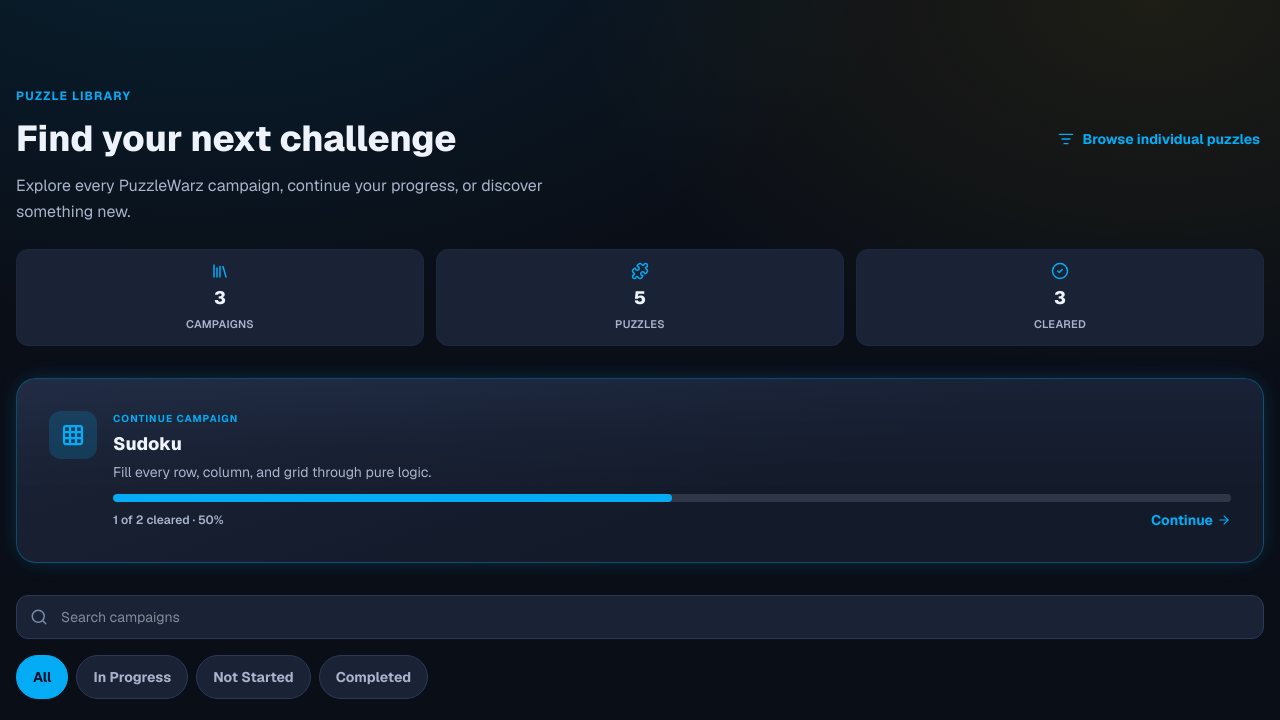
Test: Puzzle Library hub › search and filtering › search and status filtering combine
This screenshot has width=1280, height=720.
Step 1. Click the button "Completed" → {"x": 373, "y": 676}, box x1=319 y1=654 x2=428 y2=698
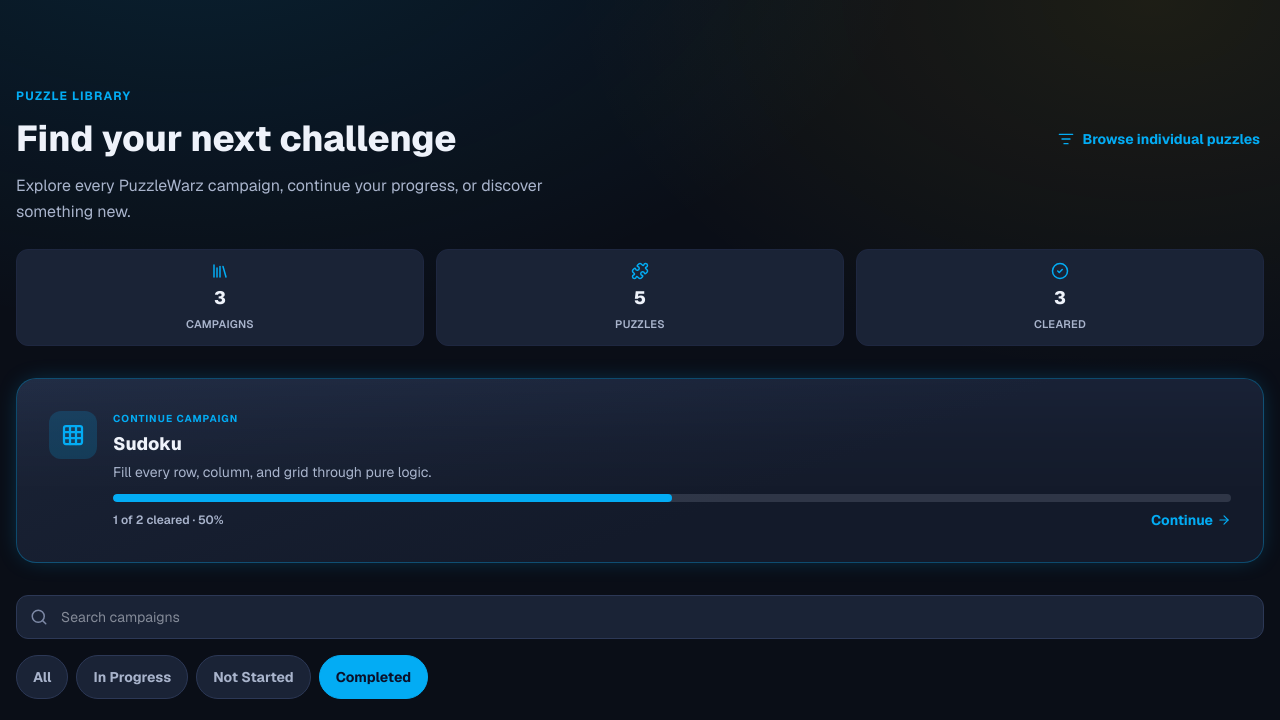
Step 2. Type "sudoku" into the field labelled "Search campaigns" → {"x": 640, "y": 616}, box x1=16 y1=594 x2=1264 y2=638
(page scrolled)
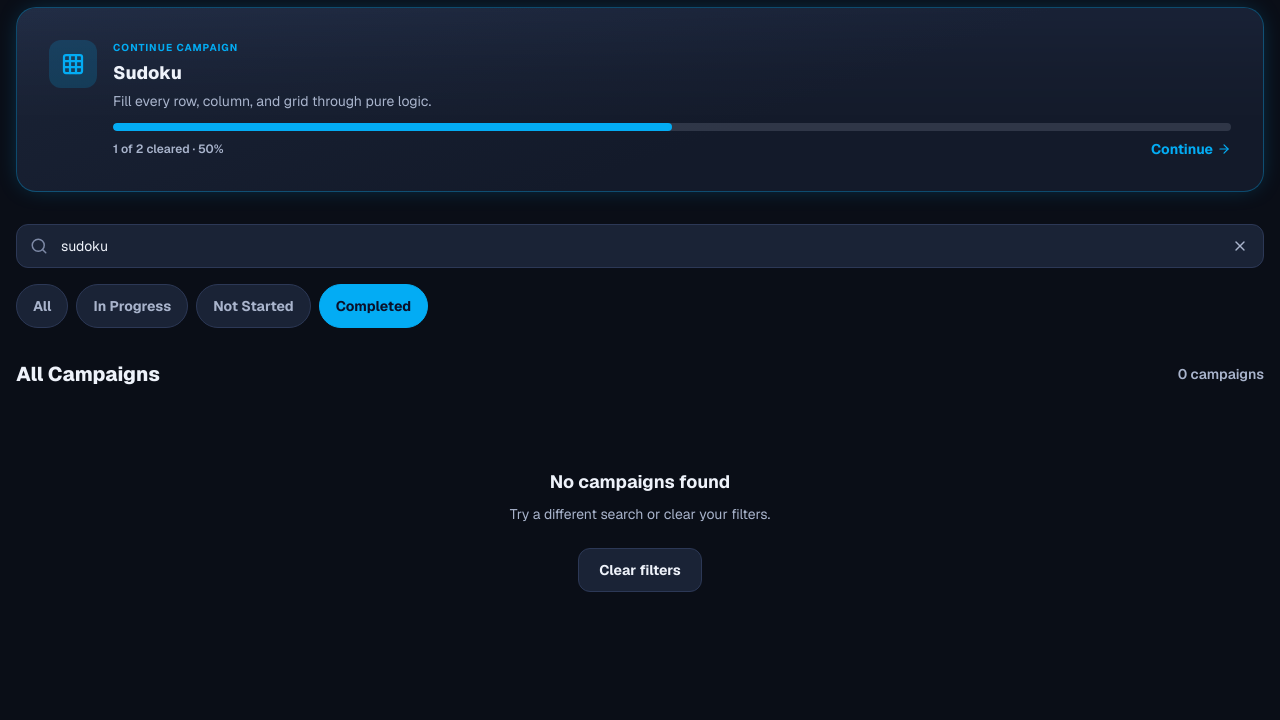
Check: the text "No campaigns found" is shown, box x1=550 y1=470 x2=730 y2=492
